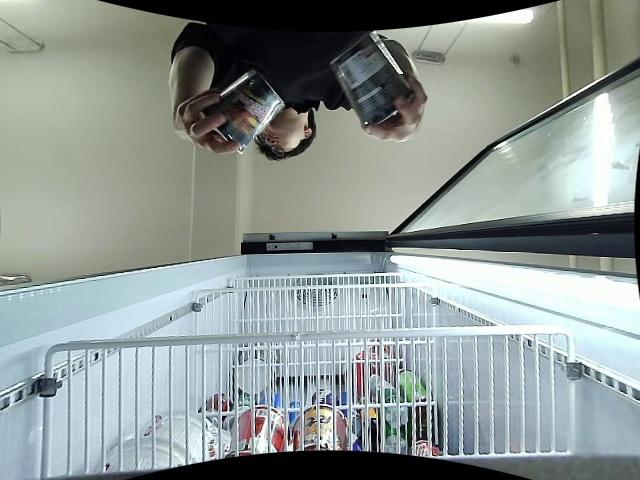00_hand: (360, 67, 428, 142), (175, 89, 244, 157)
08_buldak_S: (332, 31, 416, 131), (201, 71, 285, 156)
